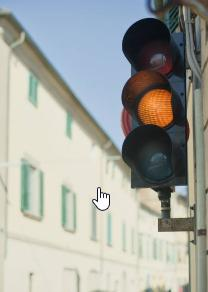yellow_light: (122, 18, 189, 188)
